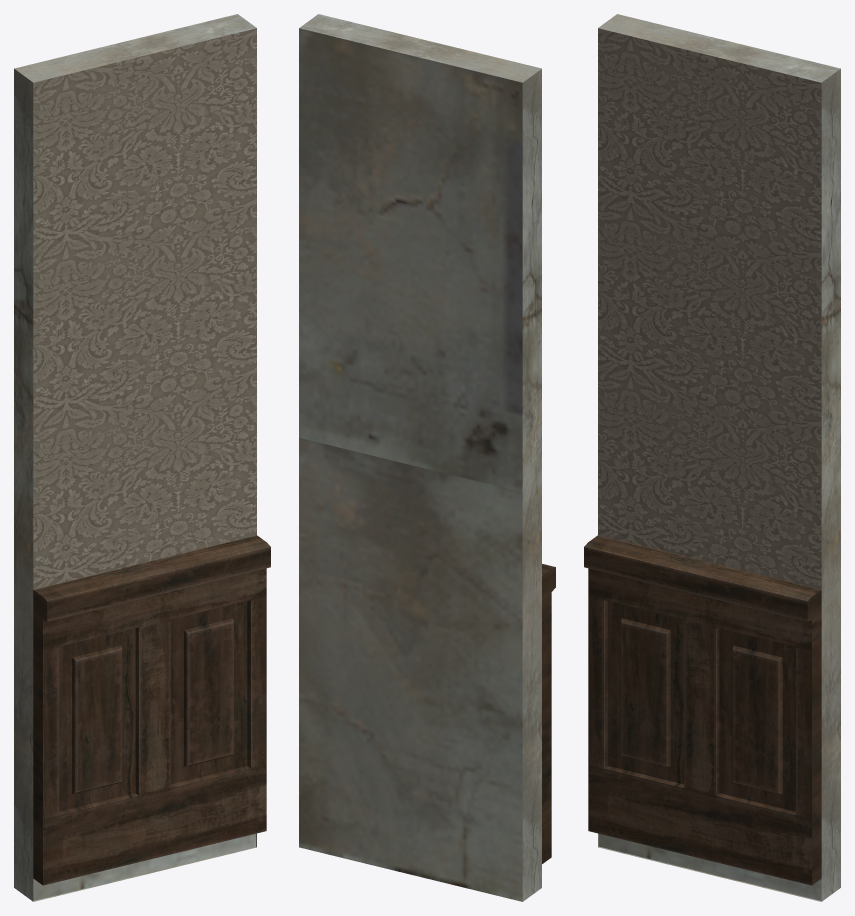
The model's file is R3_Wall_Cut.fbx.
3 views of the same model, side by side, from view 1: azimuth 30°, elevation 25°; view 2: azimuth 150°, elevation 25°; view 3: azimuth 330°, elevation 25° (orthographic).
Visible parts, largest first — view 1: SM_Wall100A_LOD0; view 2: SM_Wall100A_LOD0; view 3: SM_Wall100A_LOD0.
Part boxes in pixels (x1,y1,x2,y2): SM_Wall100A_LOD0: (14, 14, 270, 901); SM_Wall100A_LOD0: (299, 14, 555, 901); SM_Wall100A_LOD0: (584, 14, 840, 901).
Size of the model in its own units: 100 by 350 by 25.65.
